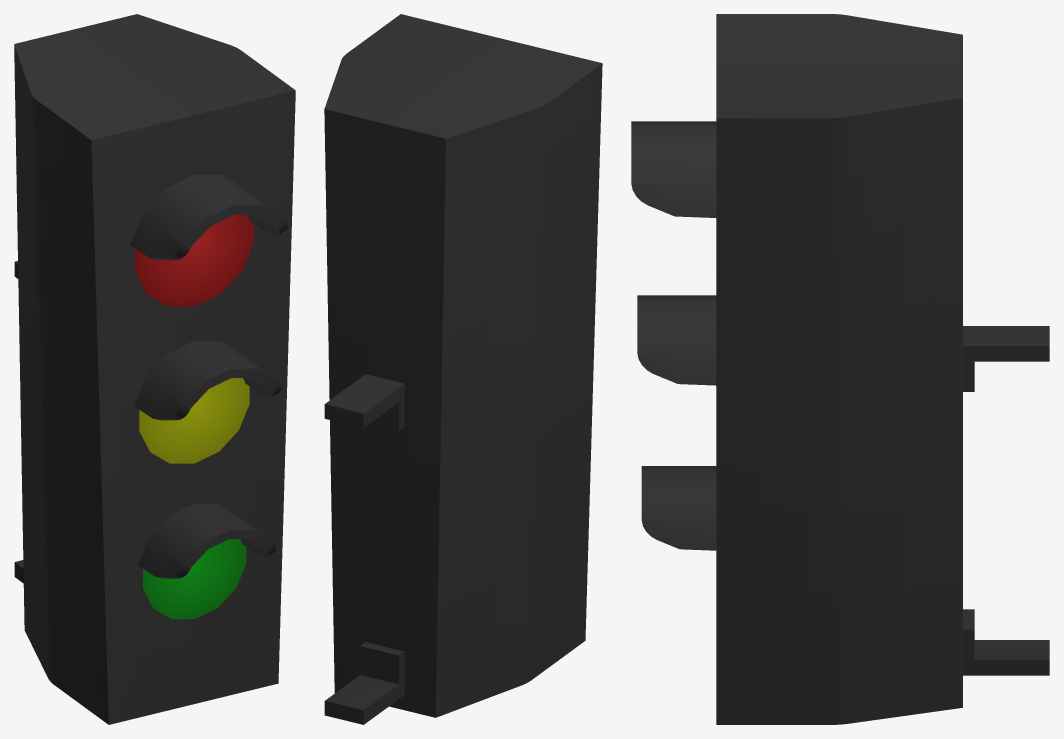
File: Traffic_Light_Head.glb
3 views of the same model, side by side, from view 1: azimuth 30°, elevation 25°; view 2: azimuth 150°, elevation 25°; view 3: azimuth 270°, elevation 25° (orthographic). The views are drawn at different scales.
Parts seen in each view (by area): view 1: traffic_light_head; view 2: traffic_light_head; view 3: traffic_light_head.
Part boxes in pixels (x1=…): traffic_light_head: x1=14, y1=14, x2=295, y2=724; traffic_light_head: x1=324, y1=14, x2=602, y2=724; traffic_light_head: x1=631, y1=14, x2=1049, y2=724.
Bounding box in the file's own units: 0.363 × 1 × 0.6162.
1 material, 1 textured.
